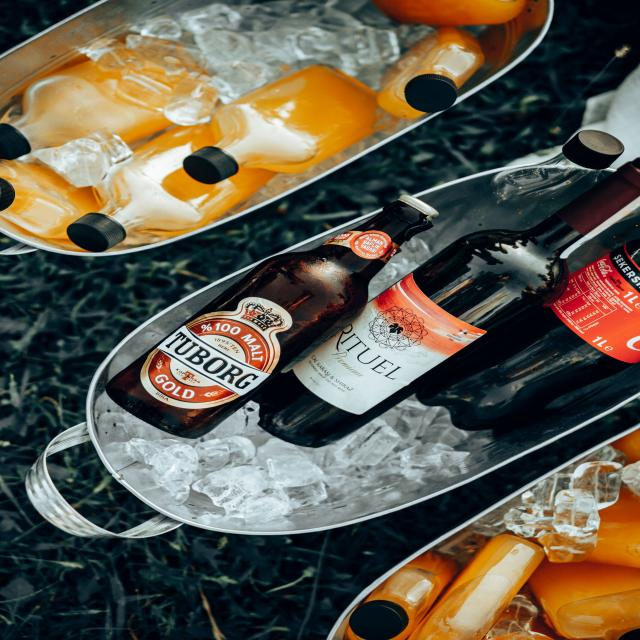Bottle: (257, 176, 620, 446), (106, 196, 436, 438), (419, 239, 639, 429), (67, 125, 273, 251), (184, 65, 377, 183), (0, 40, 186, 159), (410, 534, 544, 639), (346, 551, 458, 639), (378, 27, 484, 118), (529, 560, 639, 639), (0, 162, 96, 243), (481, 154, 598, 213), (589, 487, 639, 568), (373, 0, 525, 25), (612, 431, 639, 463)
